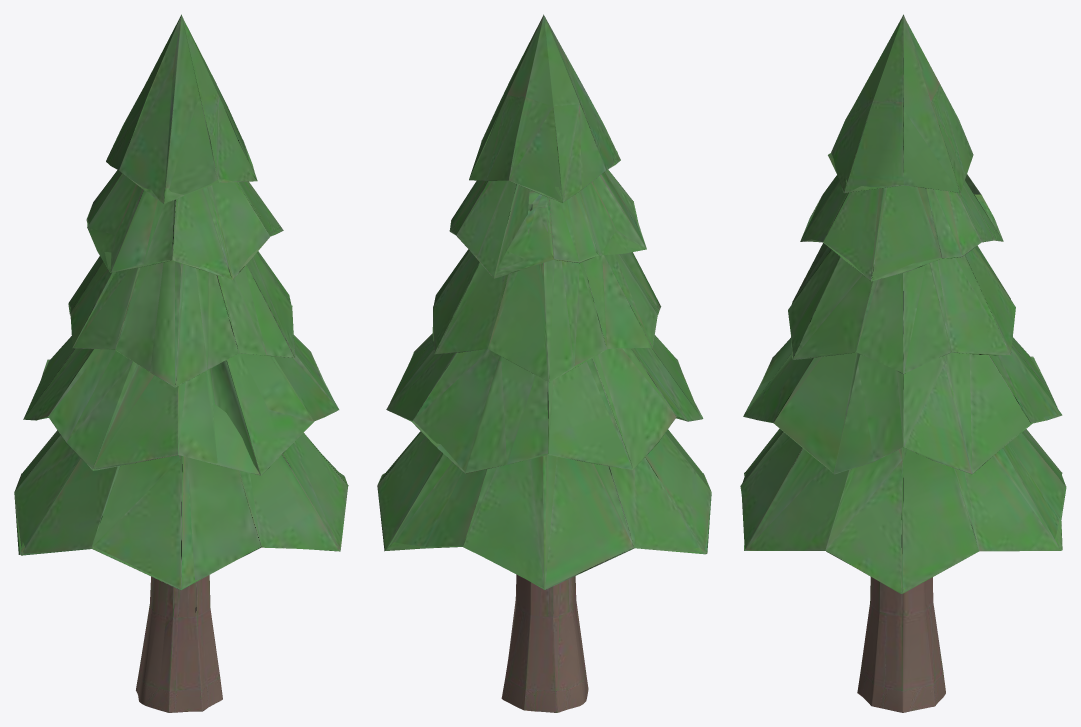
Rendered from 41-pine-tree.glb.
3 views of the same model, side by side, from view 1: azimuth 30°, elevation 25°; view 2: azimuth 150°, elevation 25°; view 3: azimuth 270°, elevation 25° (orthographic).
Parts seen in each view (by area): view 1: geometry_0; view 2: geometry_0; view 3: geometry_0.
Part boxes in pixels (x1,y1,x2,y2): geometry_0: (14,14,348,712); geometry_0: (377,14,711,712); geometry_0: (740,14,1066,712).
Size of the model in its own units: 0.4756 by 0.9502 by 0.4126.
Materials: 1 (1 with a texture image).
